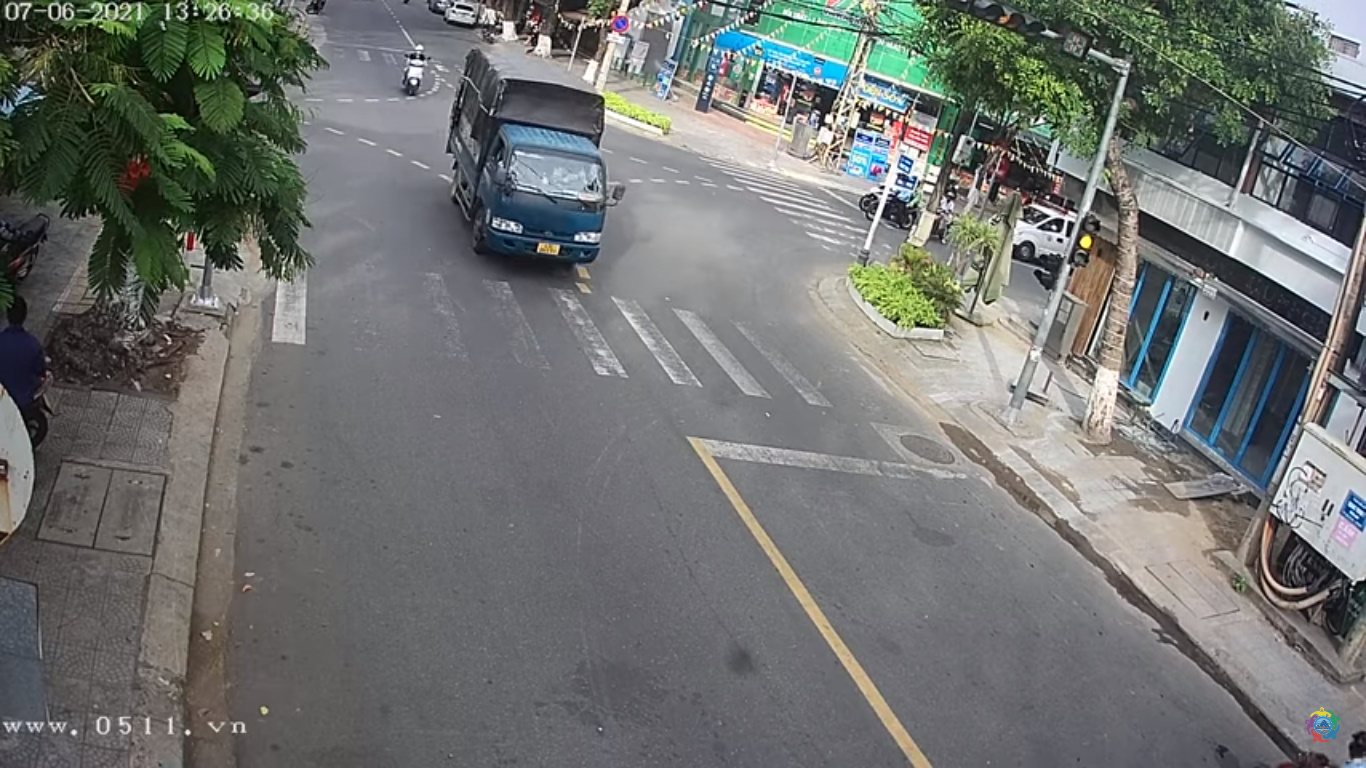truck: (449, 49, 613, 265)
